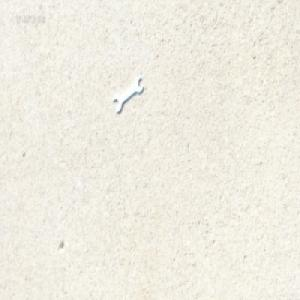Wrench: (112, 76, 143, 112)
